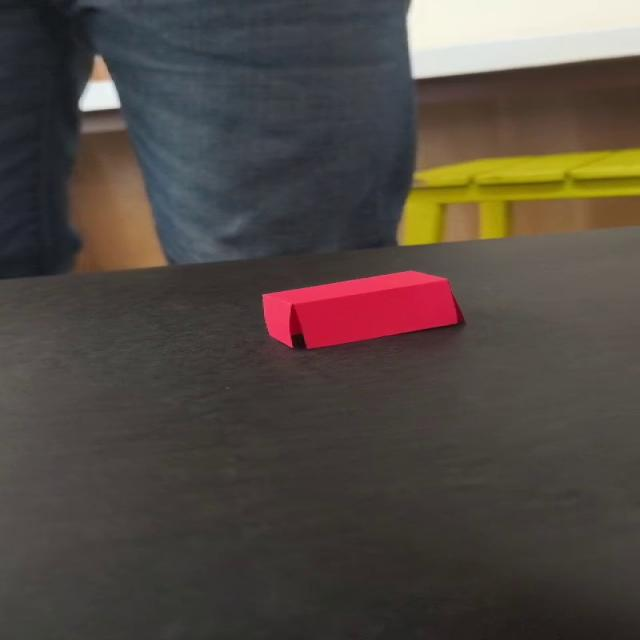red block: (260, 269, 464, 350)
